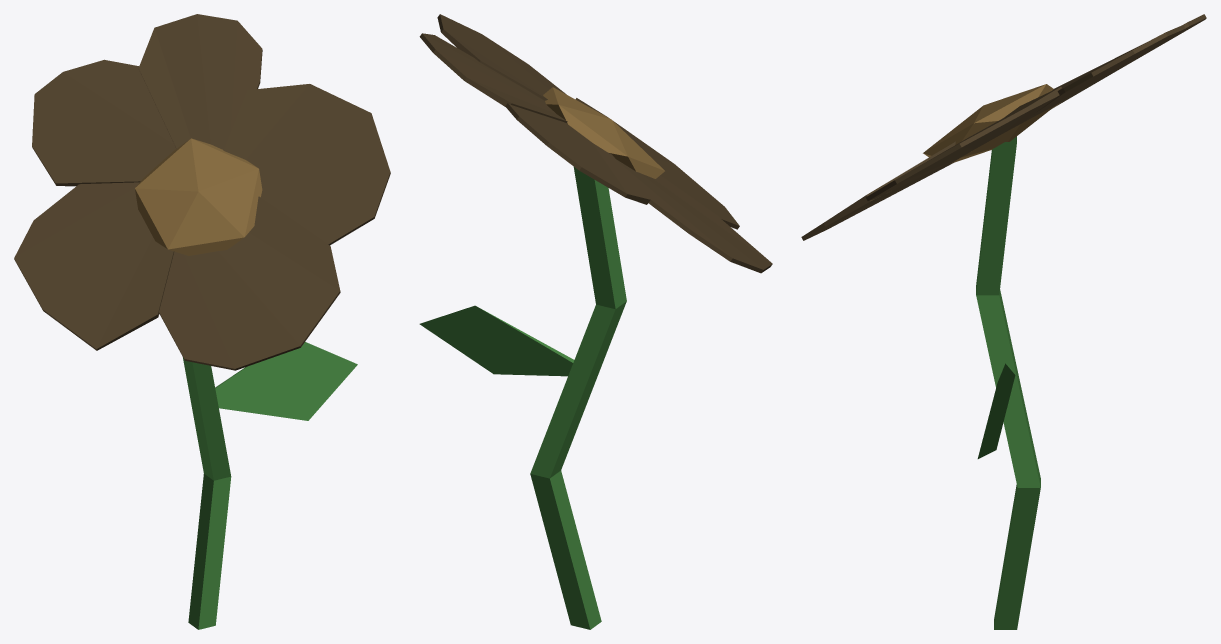
Rendered from Flower_2_Brown.fbx.
The picture shows the model from 3 angles, left to right: view 1: azimuth 30°, elevation 25°; view 2: azimuth 150°, elevation 25°; view 3: azimuth 270°, elevation 25°; orthographic projection. The views are drawn at different scales.
Visible parts, largest first — view 1: Flower_2_Brown_Part_2, Flower_2_Brown_Part_1, Flower_2_Brown_Part_3; view 2: Flower_2_Brown_Part_1, Flower_2_Brown_Part_2, Flower_2_Brown_Part_3; view 3: Flower_2_Brown_Part_1, Flower_2_Brown_Part_2, Flower_2_Brown_Part_3.
Part boxes in pixels (bbox=[...]): Flower_2_Brown_Part_2: bbox=[14, 14, 390, 370]; Flower_2_Brown_Part_1: bbox=[183, 342, 357, 629]; Flower_2_Brown_Part_3: bbox=[135, 138, 262, 255]; Flower_2_Brown_Part_1: bbox=[419, 167, 626, 629]; Flower_2_Brown_Part_2: bbox=[419, 14, 772, 273]; Flower_2_Brown_Part_3: bbox=[543, 87, 664, 178]; Flower_2_Brown_Part_1: bbox=[976, 136, 1040, 629]; Flower_2_Brown_Part_2: bbox=[801, 14, 1206, 240]; Flower_2_Brown_Part_3: bbox=[923, 84, 1054, 163].
Size of the model in its own units: 17.91 by 29.92 by 17.47.
